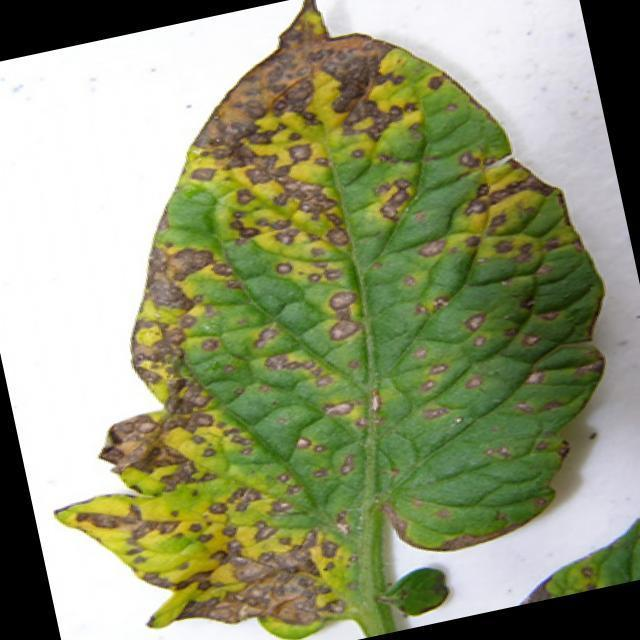Septoria: (67, 29, 621, 618)
